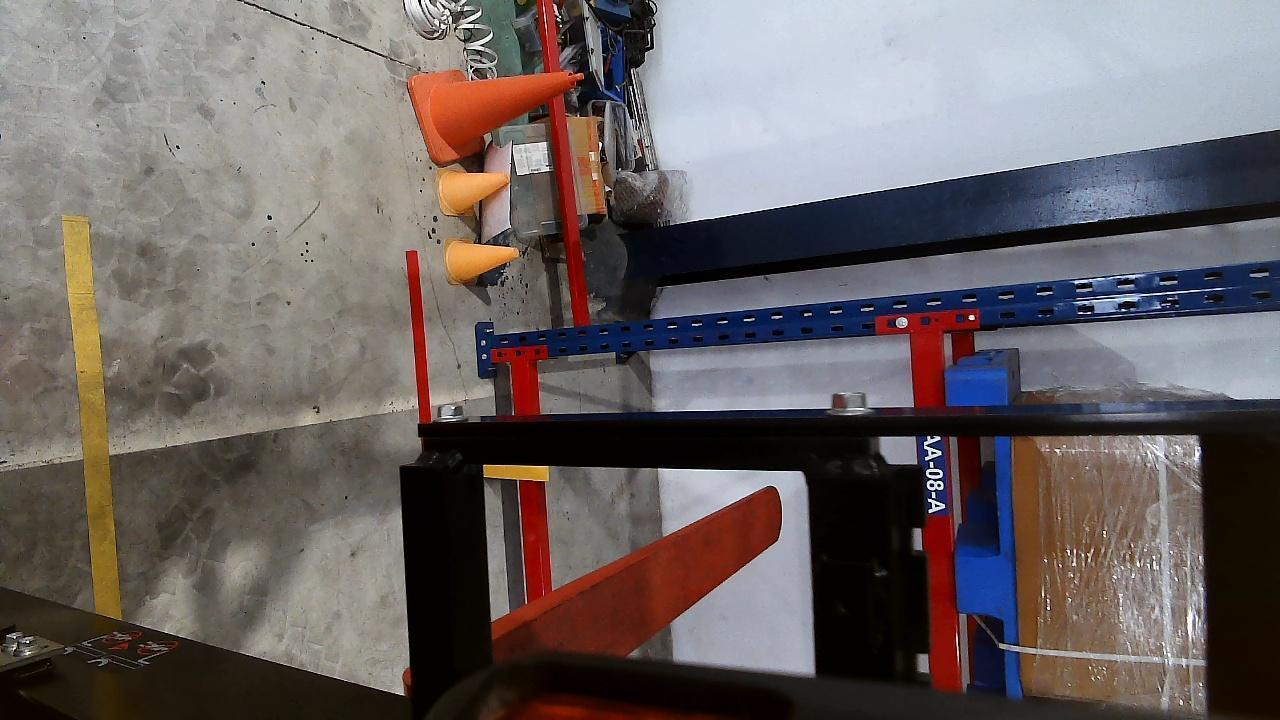red_line: (404, 250, 432, 422)
yellow_line: (60, 215, 118, 619)
